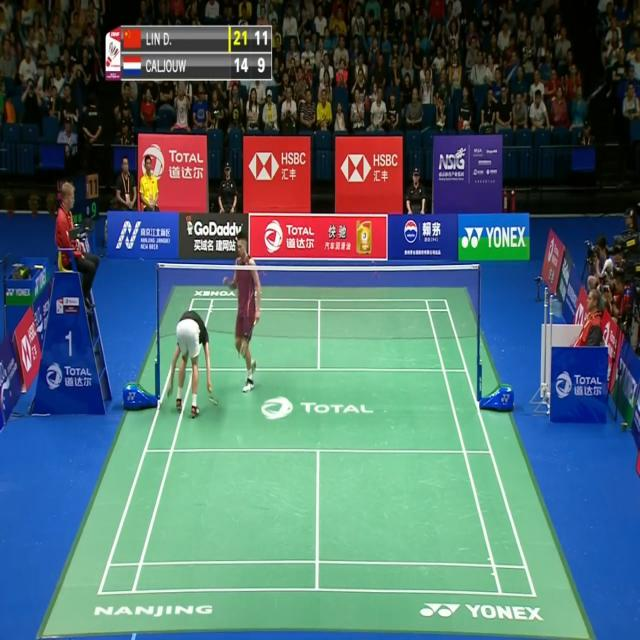Player1: (163, 303, 221, 423)
Player2: (218, 232, 266, 397)
